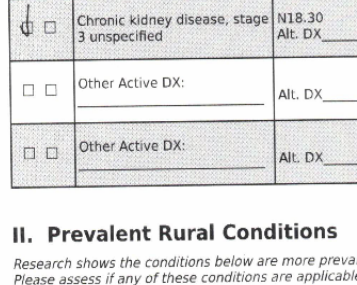checked: (13, 2, 38, 40)
